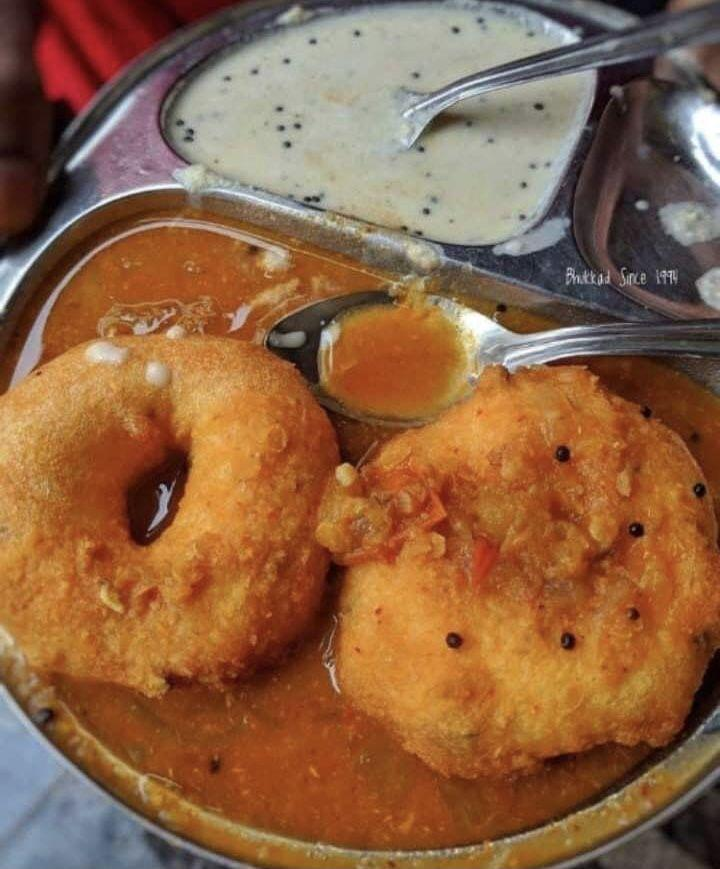coconut chutney: (193, 5, 556, 240)
medu vada: (359, 429, 709, 761), (4, 359, 340, 671)
sambhar: (73, 232, 364, 360)
